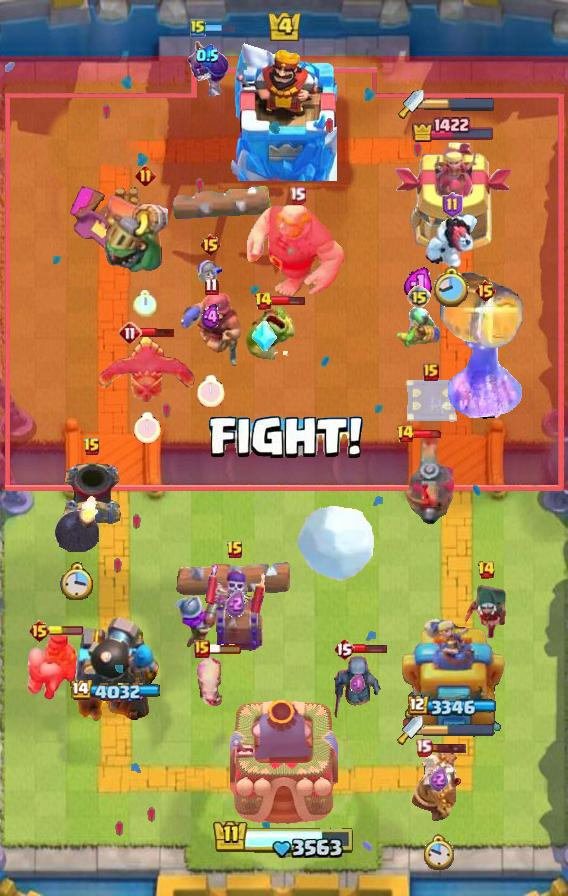baby-dragon: (54, 492, 100, 551)
balloon: (246, 202, 348, 300)
bar: (395, 142, 514, 256), (402, 615, 507, 731)
battle-ram: (329, 654, 387, 722)
bomb-tower: (173, 586, 229, 650)
clock: (212, 819, 356, 861)
dark-prince: (388, 434, 454, 524)
dirt: (438, 271, 526, 351)
electro-dragon: (446, 297, 524, 425)
electro-spirit: (403, 266, 435, 301), (225, 590, 247, 617), (196, 44, 219, 68), (201, 304, 221, 330), (429, 767, 448, 791), (350, 674, 366, 694)
elite-barbarian: (26, 627, 86, 701)
elixir: (434, 267, 470, 310), (60, 562, 94, 600), (422, 834, 454, 872), (197, 376, 225, 408), (134, 412, 161, 444), (133, 291, 157, 318)
elixir-collector: (410, 750, 466, 824)
emote: (429, 742, 466, 754), (207, 643, 243, 655), (270, 295, 305, 307), (140, 327, 176, 338), (352, 642, 387, 653), (204, 22, 236, 34), (48, 626, 84, 636), (412, 429, 444, 439)
fireball: (178, 287, 244, 369)
flying-machine: (245, 306, 303, 360)
giant: (194, 653, 228, 709)
giant-snowball: (394, 305, 444, 349)
goblin: (197, 259, 223, 297)
goblin-ball: (185, 33, 229, 99)
ice-spirit-evolution-symbol: (404, 375, 458, 425)
king-tower: (231, 43, 337, 181), (230, 698, 338, 826)
king-tower-bar: (424, 97, 496, 111), (423, 723, 495, 737)
minion: (167, 557, 297, 599), (172, 183, 272, 221)
mother-witch: (97, 332, 197, 404)
musketeer: (61, 460, 123, 528)
night-witch: (101, 190, 189, 274)
pad_2: (252, 321, 278, 353)
rage: (423, 213, 481, 271)
selected: (412, 116, 497, 143), (68, 680, 160, 703), (409, 694, 500, 717)
skeleton-king-bar: (204, 562, 266, 654)
tesla: (464, 583, 508, 643)
text: (407, 285, 431, 309), (118, 321, 142, 345), (198, 233, 221, 257), (475, 279, 498, 303), (29, 619, 52, 643), (442, 192, 463, 218), (333, 637, 355, 661), (135, 166, 156, 187), (255, 291, 274, 311), (397, 424, 416, 444), (477, 560, 496, 580), (83, 437, 101, 457), (226, 540, 244, 560), (415, 738, 433, 757), (289, 187, 307, 205), (190, 18, 206, 38), (423, 363, 439, 381), (194, 640, 210, 658), (204, 276, 219, 295)
tower-bar: (64, 615, 164, 731)
wall-breaker: (294, 503, 376, 582)
